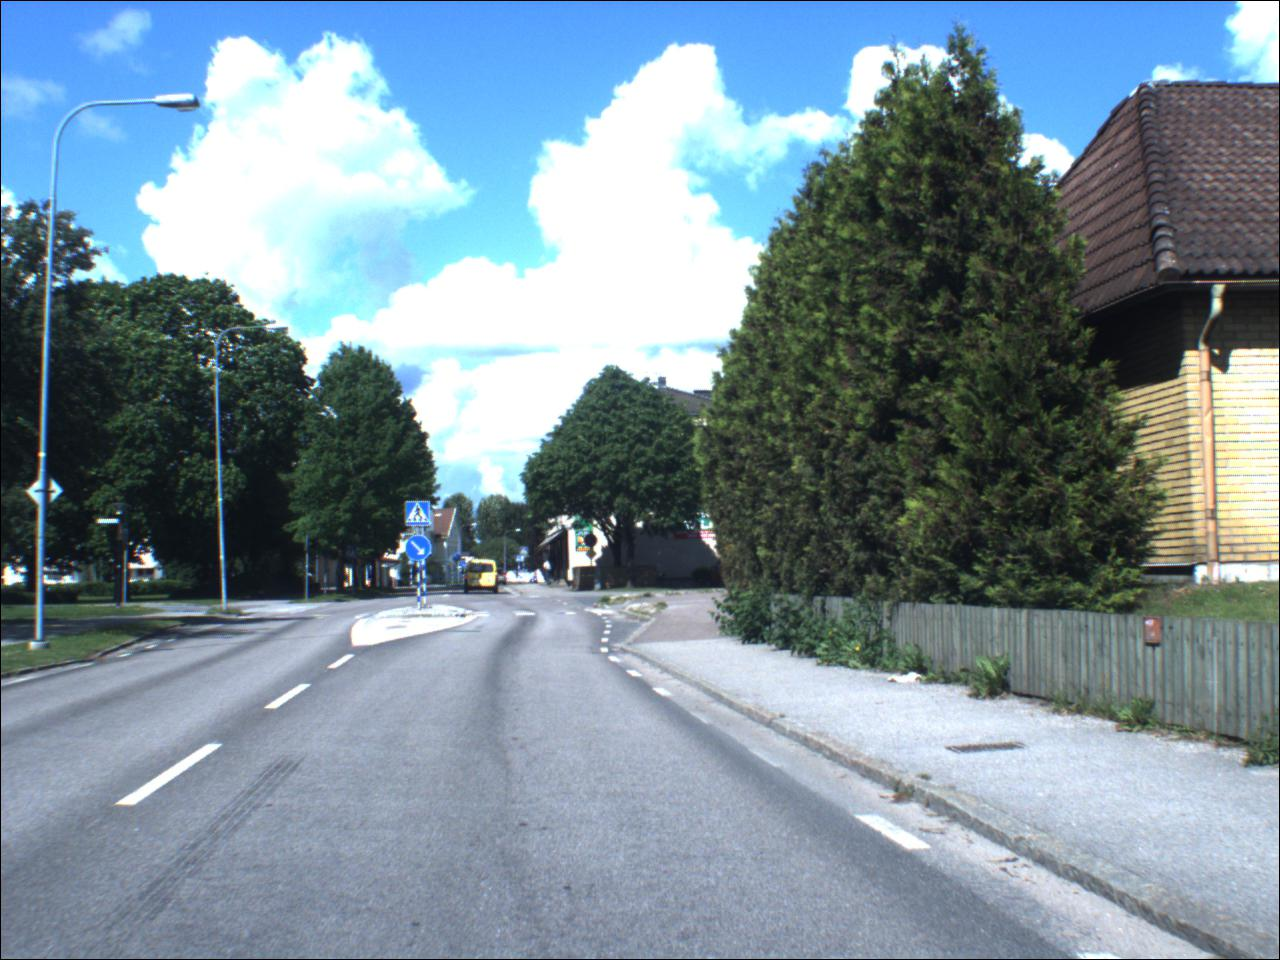NO_STOPPING_NO_STANDING: (586, 534, 601, 550)
PASS_RIGHT_SIDE: (406, 537, 435, 563), (454, 555, 463, 563), (462, 563, 469, 570)
PEDESTRIAN_CROSSING: (407, 503, 435, 529), (346, 548, 359, 560), (523, 549, 533, 559), (518, 556, 525, 564), (410, 560, 417, 568)
PRIORITY_ROAD: (587, 551, 600, 562)
